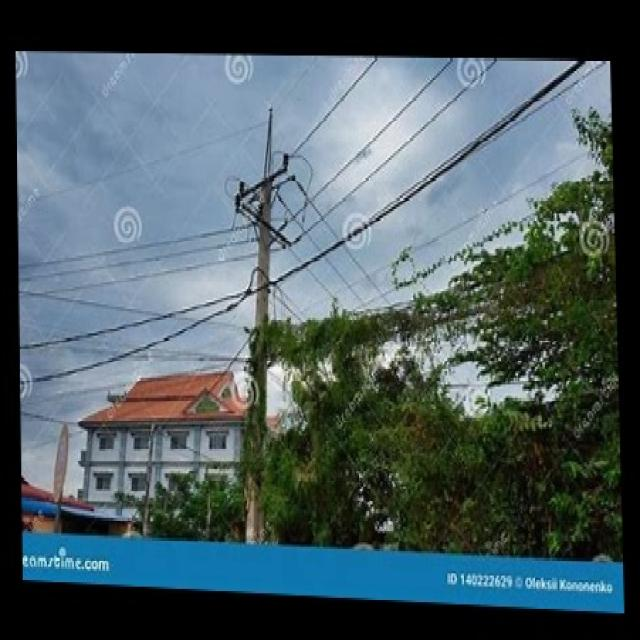critical vegetation: (253, 260, 612, 502)
